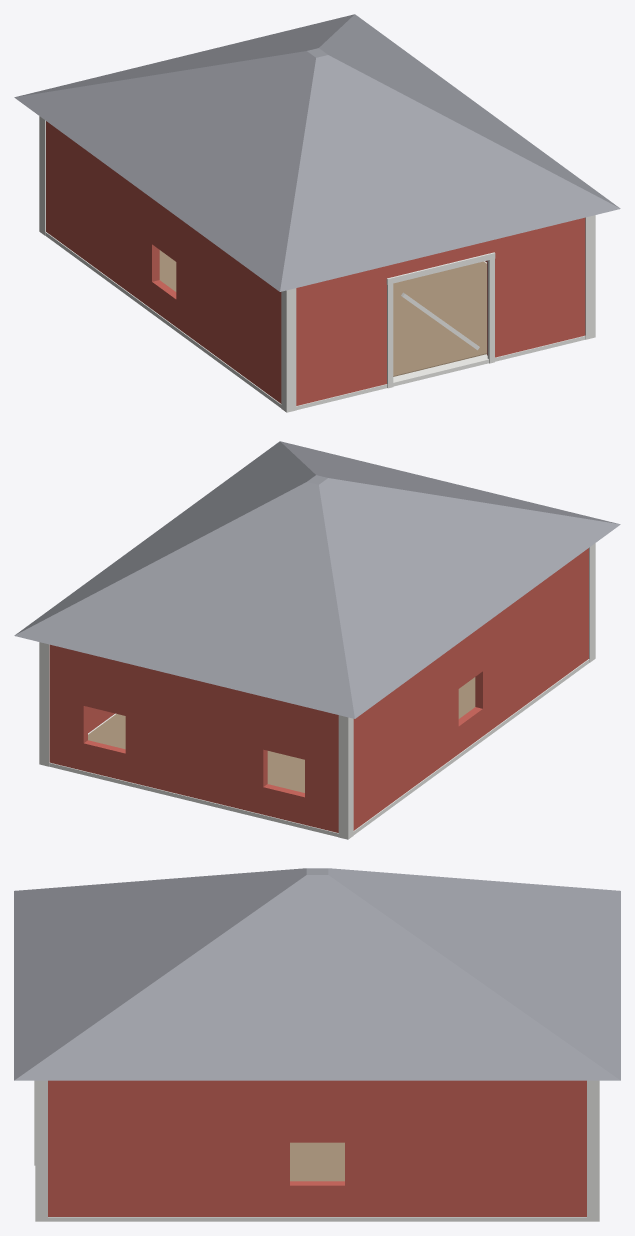
The model's file is barn.glb.
The picture shows the model from 3 angles, top to bottom: view 1: azimuth 30°, elevation 25°; view 2: azimuth 150°, elevation 25°; view 3: azimuth 270°, elevation 25°; orthographic projection. The views are drawn at different scales.
Parts seen in each view (by area): view 1: barn; view 2: barn; view 3: barn.
Boxes of the visible parts, x1,y1,x2,y2 form: barn: (14, 14, 620, 412); barn: (14, 441, 620, 839); barn: (14, 868, 620, 1221).
Size of the model in its own units: 11.4 by 7.4 by 15.4.
